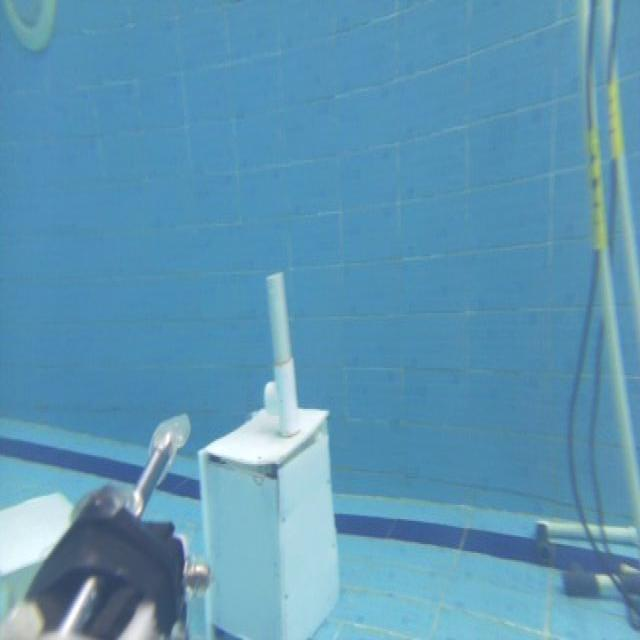Cube: (196, 402, 341, 636)
Cuboid: (0, 475, 94, 619)
